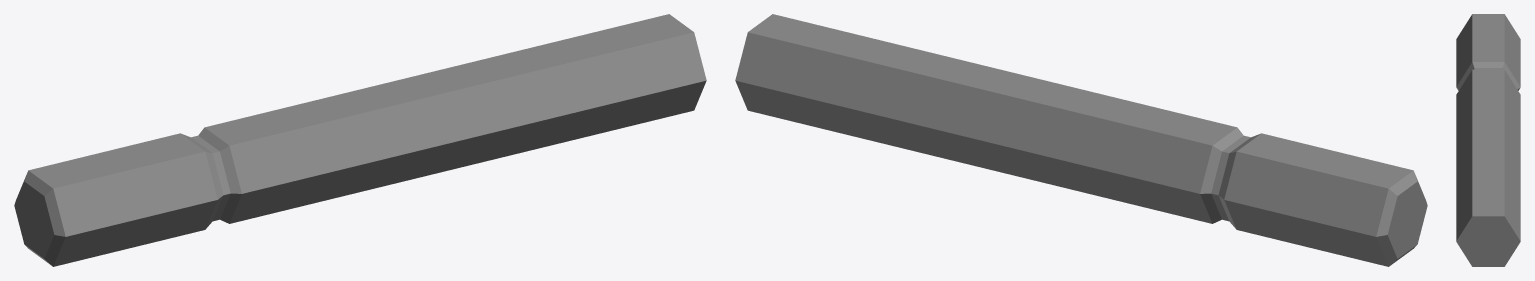
Rendered from mascara.fbx.
The picture shows the model from 3 angles, left to right: view 1: azimuth 30°, elevation 25°; view 2: azimuth 150°, elevation 25°; view 3: azimuth 270°, elevation 25°; orthographic projection. The views are drawn at different scales.
Visible parts, largest first — view 1: mascara; view 2: mascara; view 3: mascara.
Boxes of the visible parts, bbox=[...] form: mascara: bbox=[14, 14, 706, 266]; mascara: bbox=[735, 14, 1427, 266]; mascara: bbox=[1456, 14, 1520, 266].
Bounding box in the file's own units: 0.11 × 0.0127 × 0.0147.
